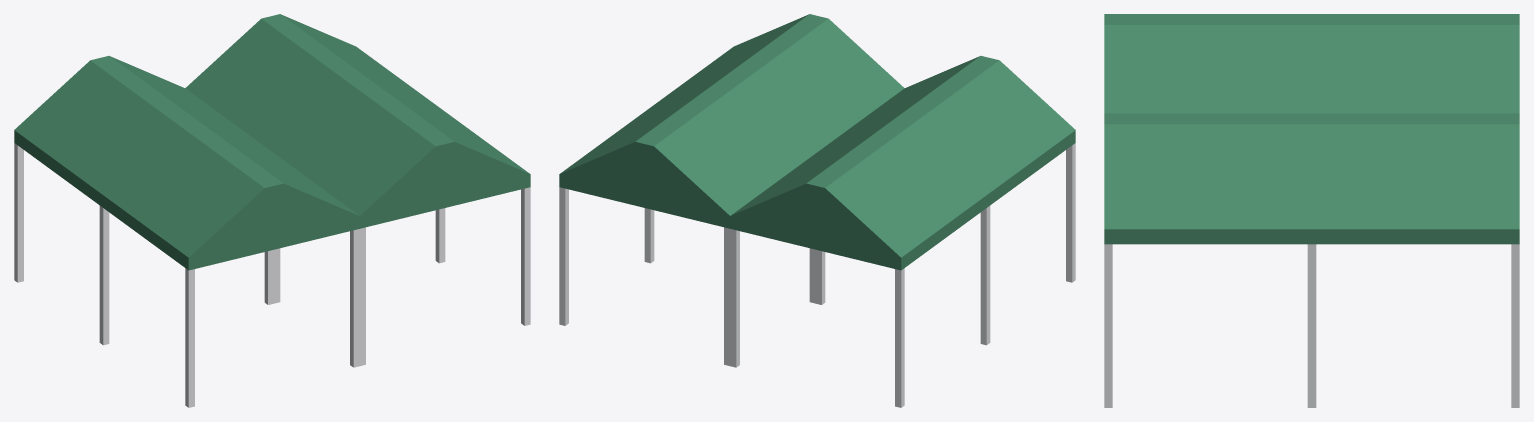
Rendered from tentRoofDouble.glb.
The picture shows the model from 3 angles, left to right: view 1: azimuth 30°, elevation 25°; view 2: azimuth 150°, elevation 25°; view 3: azimuth 270°, elevation 25°; orthographic projection. The views are drawn at different scales.
Visible parts, largest first — view 1: tentRoofDouble(Clone); view 2: tentRoofDouble(Clone); view 3: tentRoofDouble(Clone).
Part boxes in pixels (bbox=[...]): tentRoofDouble(Clone): bbox=[14, 14, 530, 407]; tentRoofDouble(Clone): bbox=[559, 14, 1075, 407]; tentRoofDouble(Clone): bbox=[1104, 14, 1519, 407].
Bounding box in the file's own units: 1.12 × 0.63 × 0.99.
